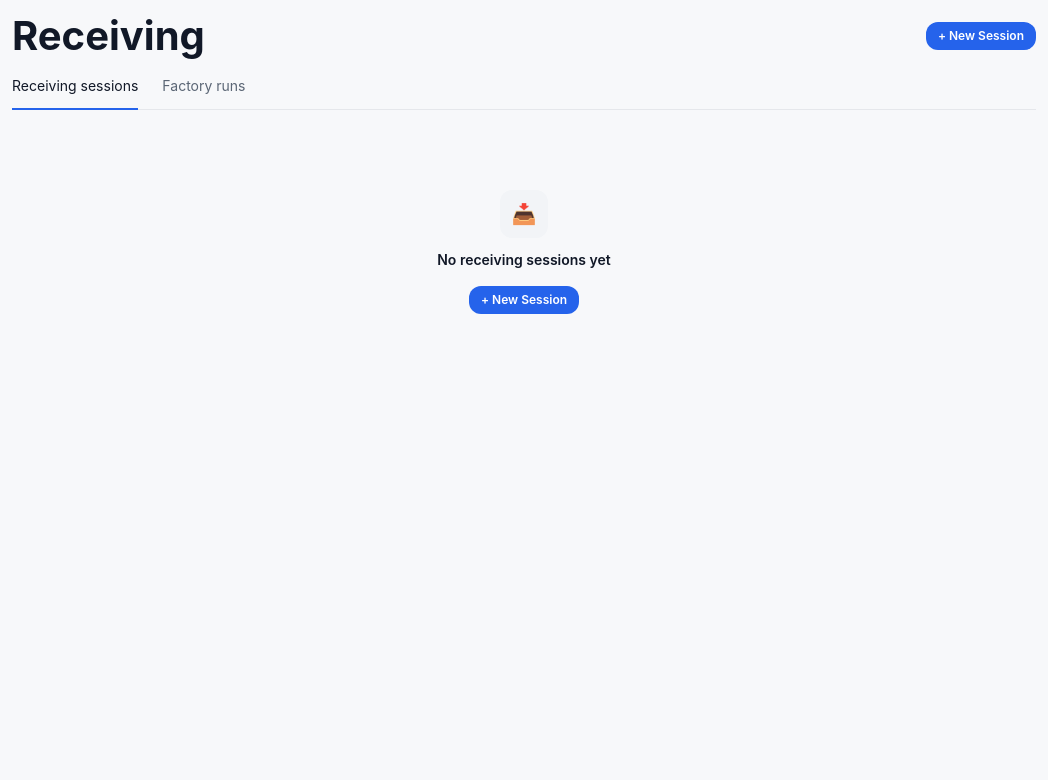
Test: Receiving › count only session › c5 — a finished print-and-stick session still prints labels
Click the 1st button "+ New Session" at (981, 36), box [926,22,1036,50]
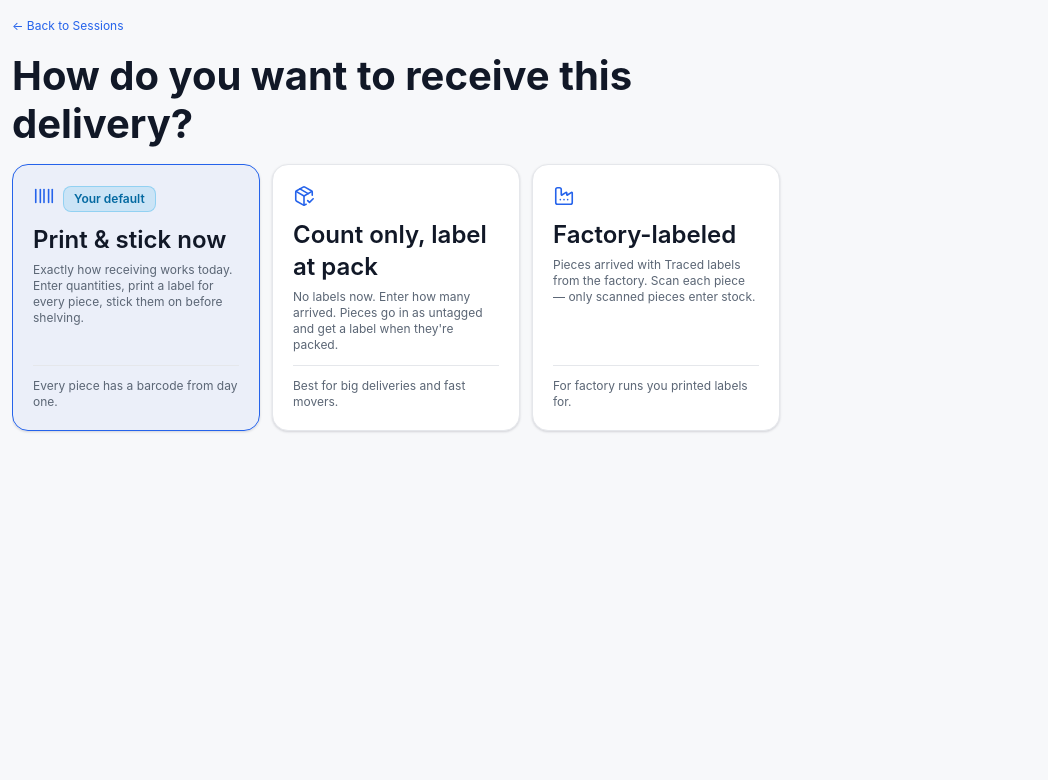
Click the button with test id "receiving-mode-print_stick" at (136, 298), box [12,164,260,431]
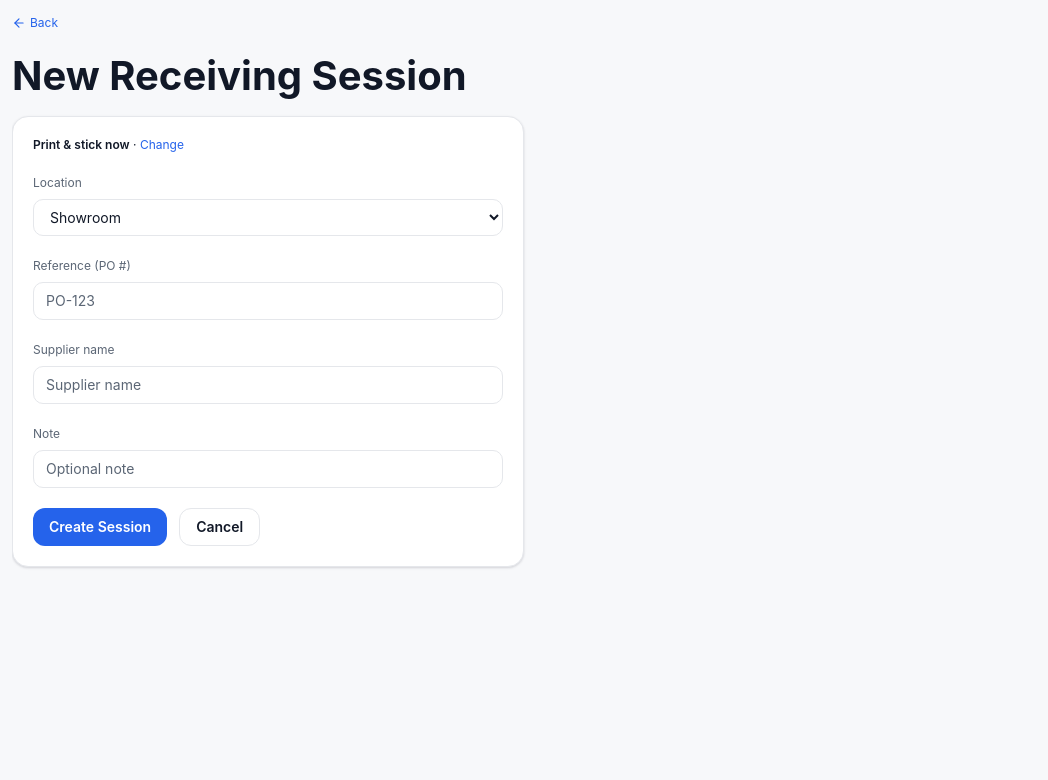
Click the button "Create Session" at (100, 527), box [33,508,167,546]
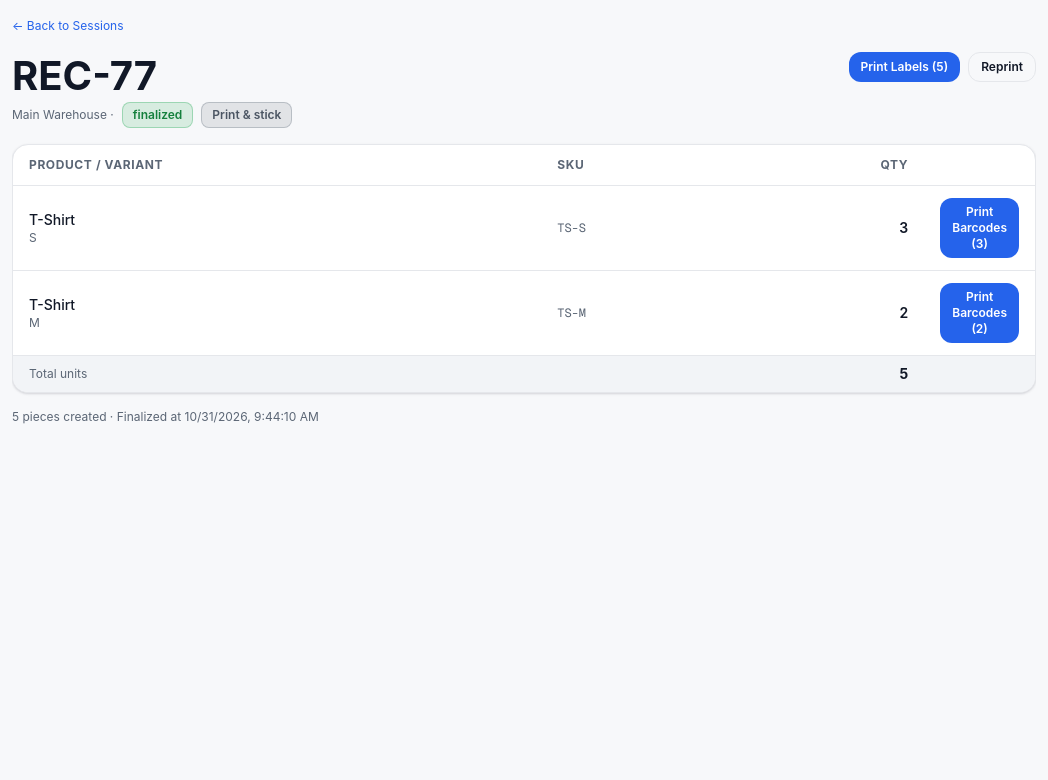
Result: the button "Print Labels (5)" is shown at [848,52,960,82]
